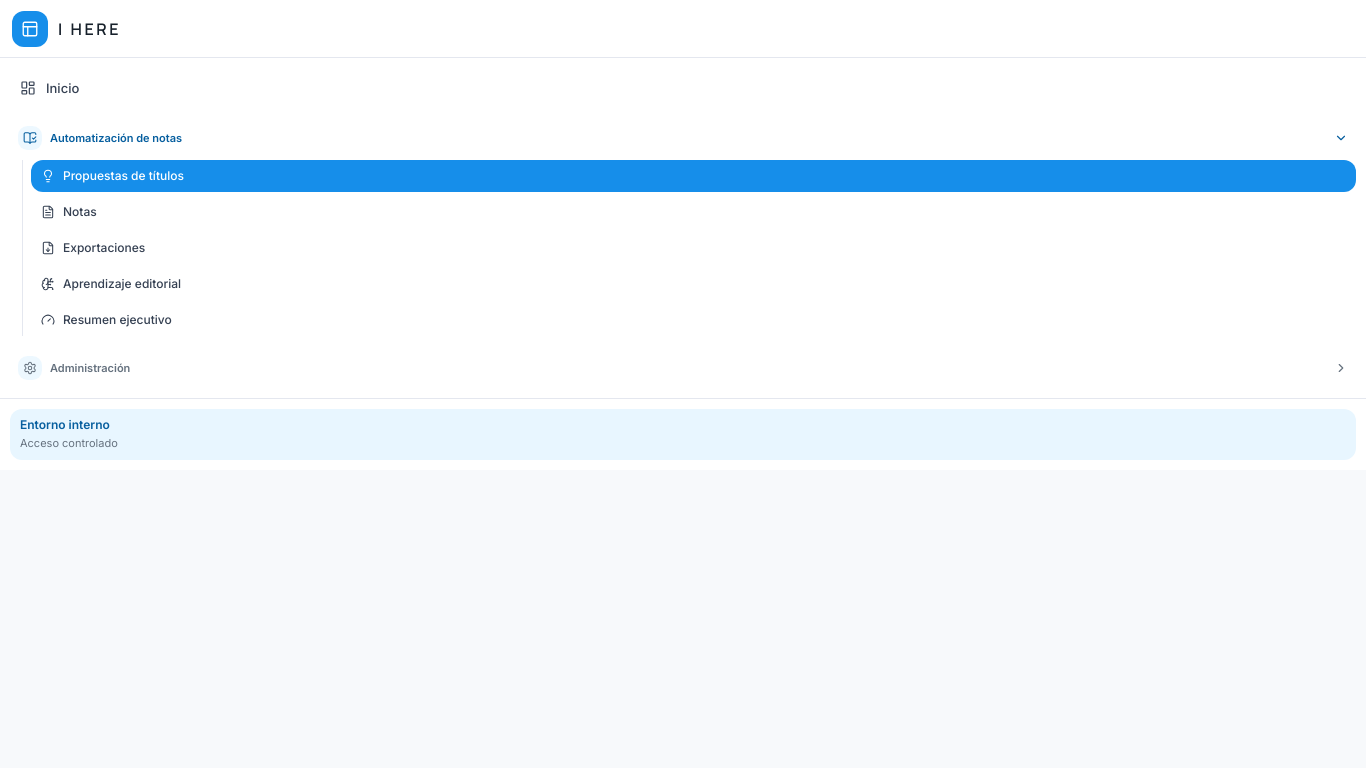
AppSidebar › despliega y contrae submódulos desde su encabezado
What coordinates should you click on to do the following:
click the button "Administración"
I would click on:
 (90, 368)
Its box is [10, 350, 1356, 386].
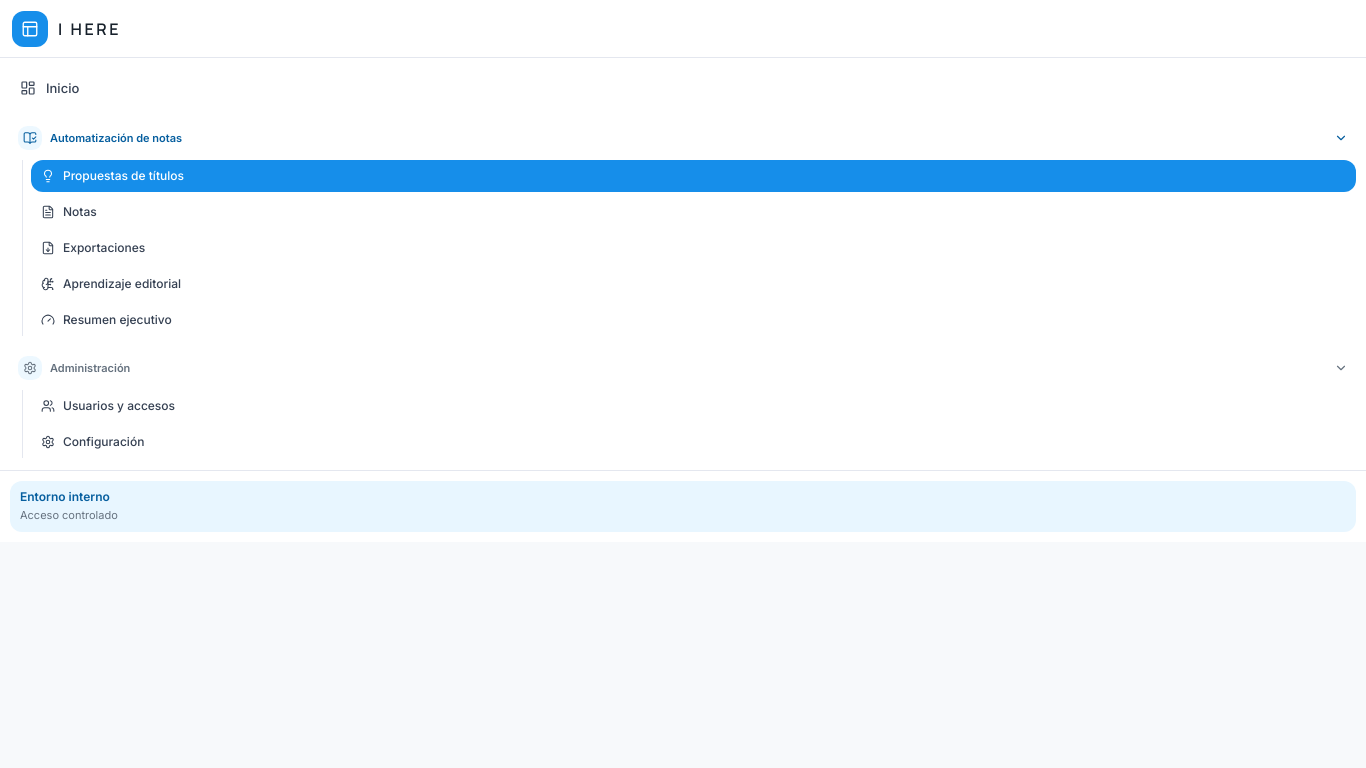
Now the button "Administración" is expanded
Now the link "Usuarios y accesos" is shown, box [41, 398, 175, 413]
What coordinates should you click on to do the following:
click the button "Administración"
I would click on:
 (90, 368)
Its box is [10, 350, 1356, 386].
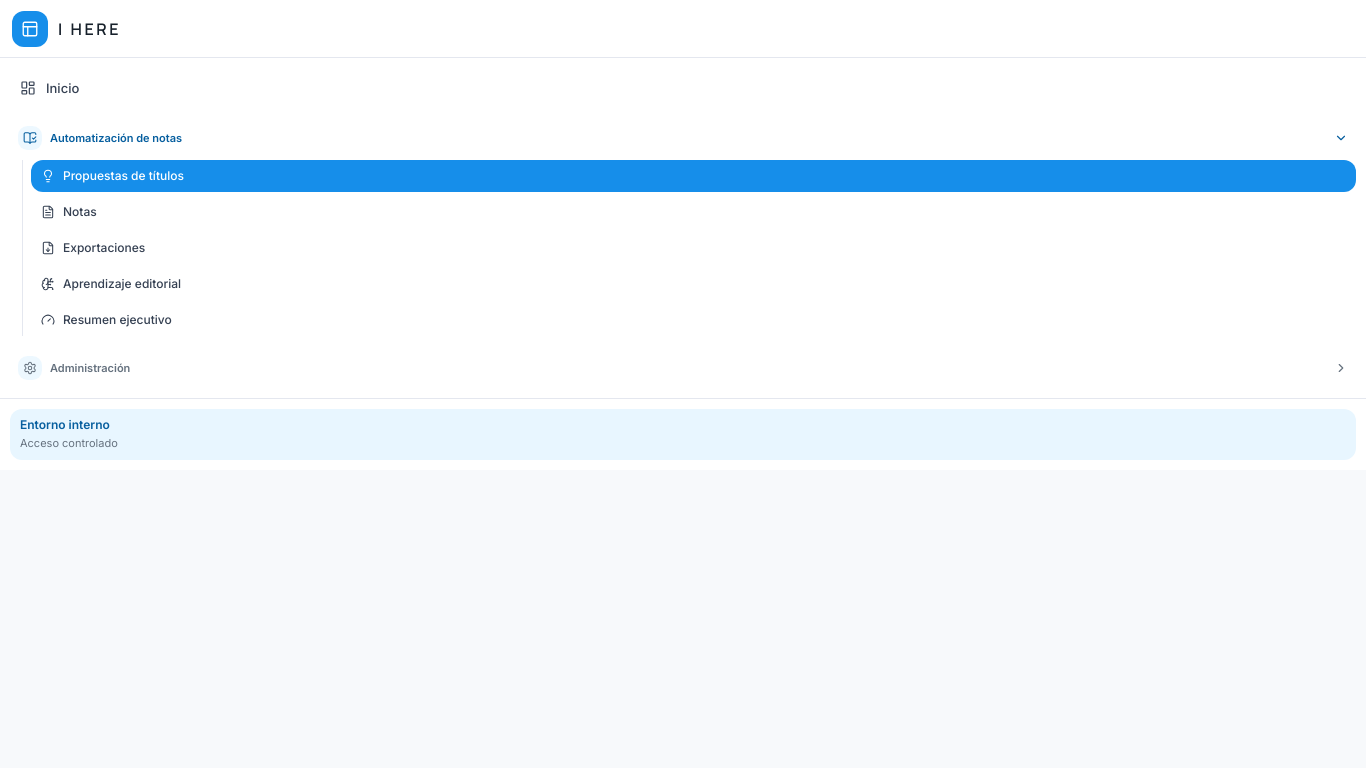
Now the button "Administración" is collapsed, box [10, 350, 1356, 386]
Now the link "Usuarios y accesos" is gone
